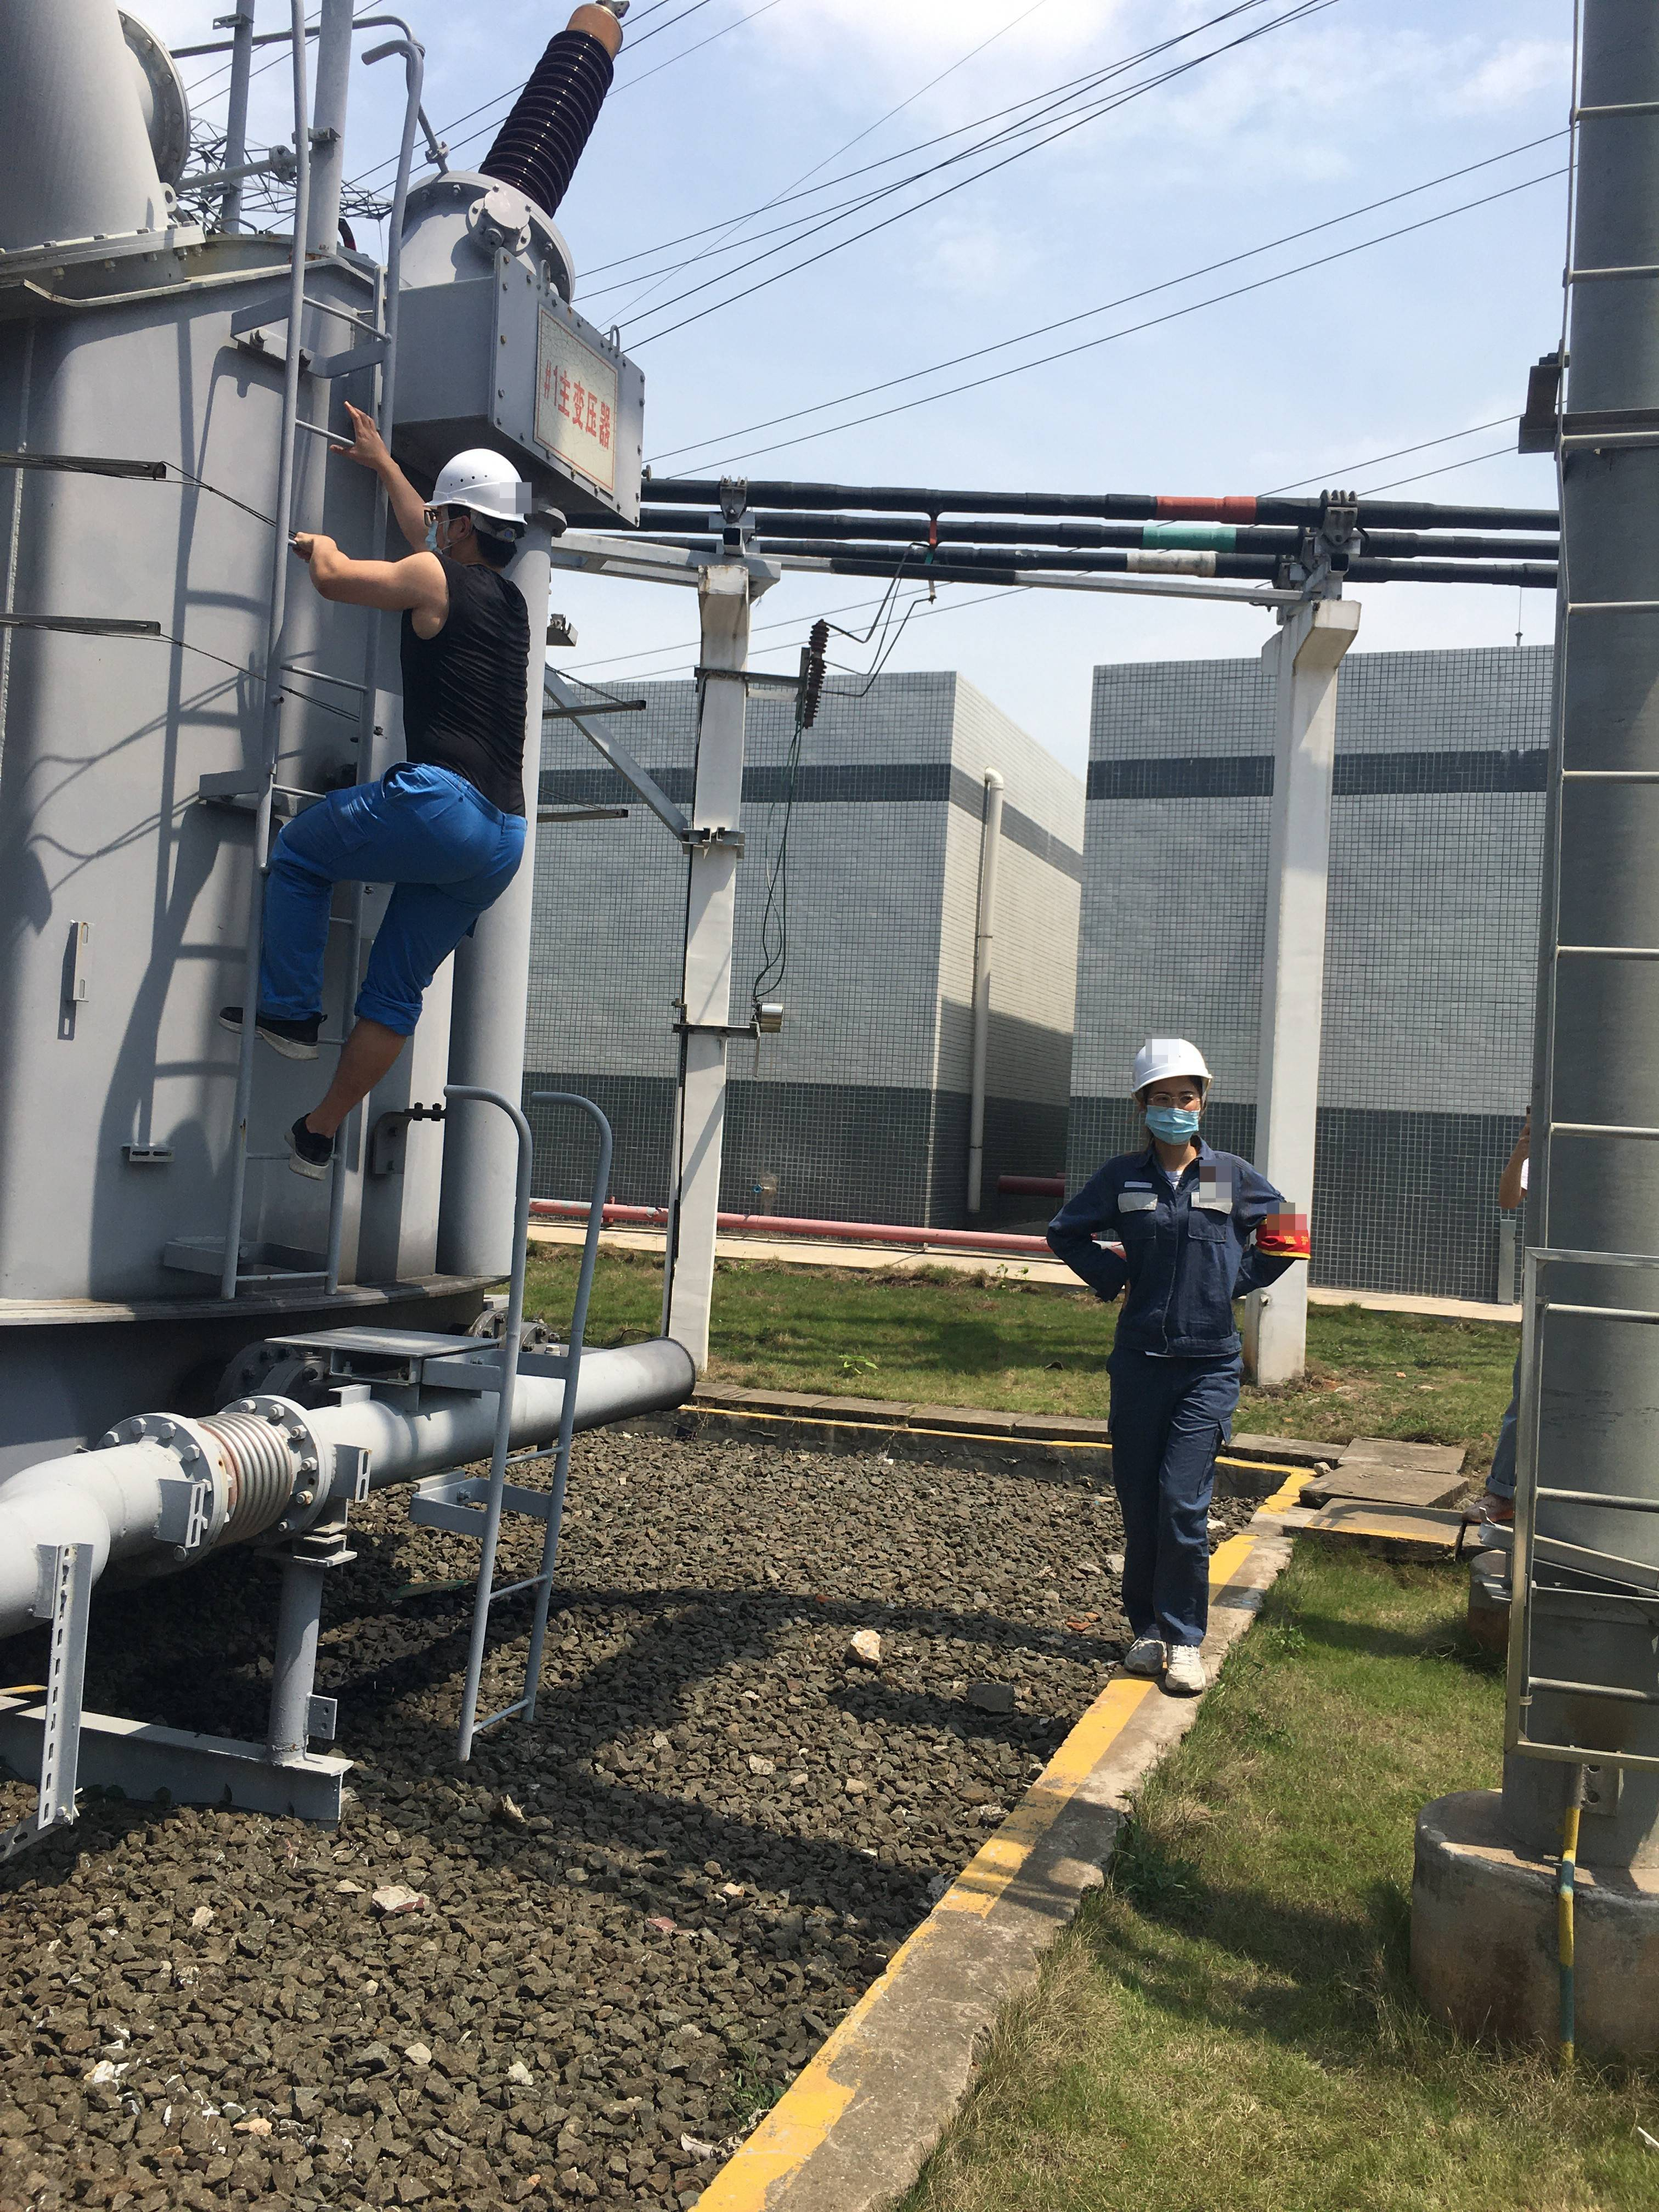downsuit: (263, 742, 537, 1024), (1103, 1371, 1244, 1639)
upcloth: (390, 564, 540, 773)
upsuit: (1053, 1146, 1297, 1359)
wrongbottom: (305, 995, 422, 1158)
